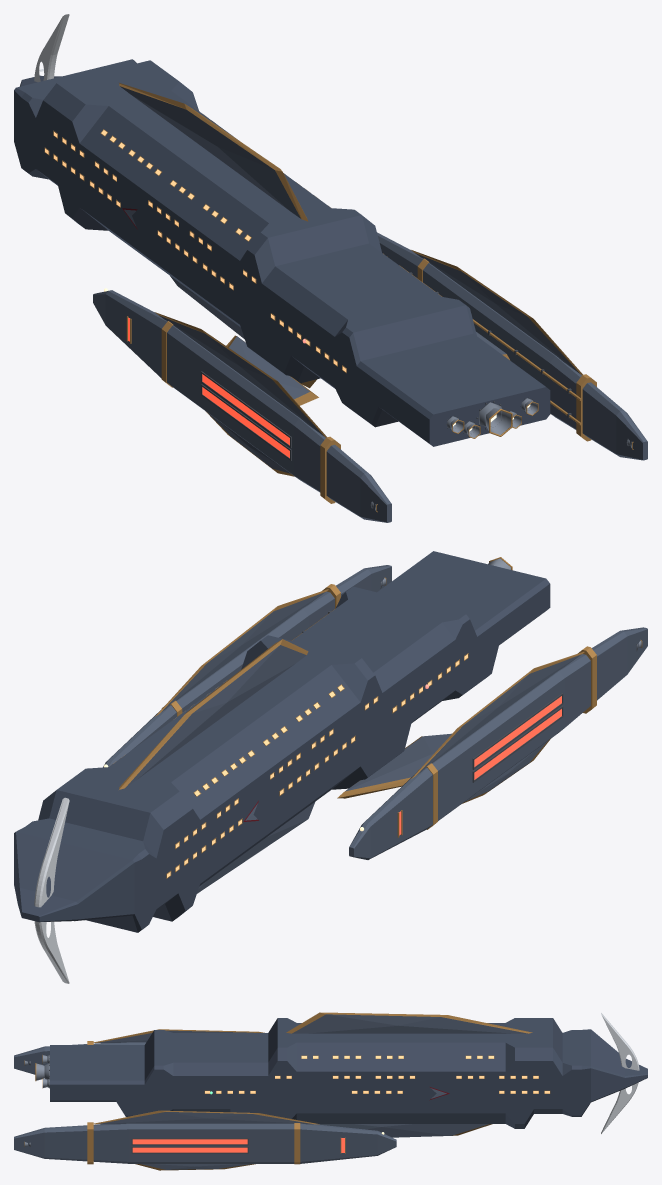
The model's file is cruiser.glb.
3 views of the same model, one above another, from view 1: azimuth 30°, elevation 25°; view 2: azimuth 150°, elevation 25°; view 3: azimuth 270°, elevation 25° (orthographic). The views are drawn at different scales.
Parts seen in each view (by area): view 1: hull_hull, nacelle_port_hull, nacelle_starboard_hull, nacelle_port_glow_grille, hull_metal_7b4013, nacelle_starboard_metal_7b4013, hull_window, nacelle_port_metal_14171d, nacelle_port_metal_7b4013, hull_drive_bell, hull_weapons_blade_steel; view 2: hull_hull, nacelle_port_hull, nacelle_starboard_hull, hull_weapons_blade_steel, nacelle_port_glow_grille, hull_metal_7b4013, nacelle_port_metal_14171d, hull_window, nacelle_port_metal_7b4013; view 3: hull_hull, nacelle_starboard_hull, nacelle_starboard_glow_grille, nacelle_port_hull, hull_weapons_blade_steel, nacelle_starboard_metal_14171d, hull_window, nacelle_starboard_metal_7b4013, hull_metal_7b4013.
Part boxes in pixels (left/top/right/bottom): hull_hull: left=14, top=59, right=550, bottom=446; nacelle_port_hull: left=93, top=290, right=391, bottom=522; nacelle_starboard_hull: left=377, top=232, right=647, bottom=460; nacelle_port_glow_grille: left=128, top=317, right=289, bottom=457; hull_metal_7b4013: left=44, top=107, right=346, bottom=373; nacelle_starboard_metal_7b4013: left=383, top=253, right=633, bottom=449; hull_window: left=45, top=130, right=346, bottom=371; nacelle_port_metal_14171d: left=201, top=371, right=372, bottom=508; nacelle_port_metal_7b4013: left=126, top=316, right=377, bottom=512; hull_drive_bell: left=450, top=401, right=537, bottom=437; hull_weapons_blade_steel: left=34, top=14, right=69, bottom=82; hull_hull: left=14, top=551, right=550, bottom=932; nacelle_port_hull: left=337, top=627, right=647, bottom=859; nacelle_starboard_hull: left=103, top=565, right=391, bottom=767; hull_weapons_blade_steel: left=34, top=797, right=69, bottom=983; nacelle_port_glow_grille: left=399, top=696, right=561, bottom=835; hull_metal_7b4013: left=113, top=653, right=468, bottom=878; nacelle_port_metal_14171d: left=472, top=644, right=638, bottom=782; hull_window: left=167, top=654, right=467, bottom=877; nacelle_port_metal_7b4013: left=397, top=640, right=642, bottom=837; hull_hull: left=50, top=1012, right=647, bottom=1137; nacelle_starboard_hull: left=14, top=1110, right=396, bottom=1170; nacelle_starboard_glow_grille: left=132, top=1138, right=344, bottom=1152; nacelle_port_hull: left=14, top=1029, right=264, bottom=1074; hull_weapons_blade_steel: left=601, top=1013, right=639, bottom=1133; nacelle_starboard_metal_14171d: left=131, top=1138, right=248, bottom=1153; hull_window: left=205, top=1056, right=549, bottom=1093; nacelle_starboard_metal_7b4013: left=24, top=1122, right=345, bottom=1164; hull_metal_7b4013: left=204, top=1055, right=550, bottom=1093.
Bounding box in the file's own units: 43.15 × 29.78 × 134.
